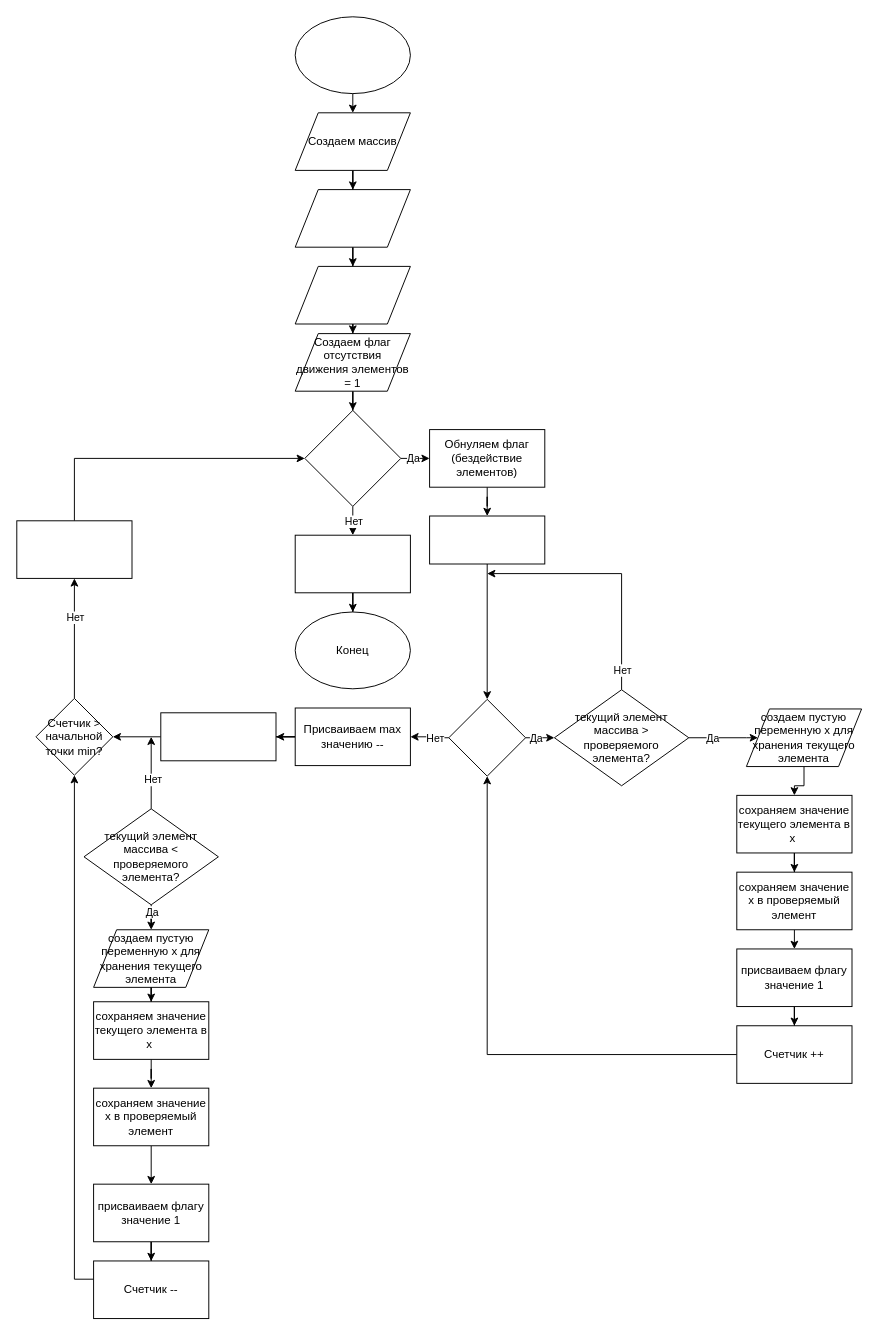
Some shapes in this 878 by 1335 pixel diagram are drawn without their labels. The shapes that lost their labels are listed below. From the top down, each one's centre as x and y in pixels, then its label:
At (352,55): "Начало".
At (352,218): "Создаем переменную min (начало массива)".
At (352,294): "Создаем переменную max (конец массива)".
At (352,457): "min < max && Flag >0 ?".
At (74,549): "Присваиваем min значению ++".
At (487,539): "Создаем счетчик = начальной точке min".
At (352,563): "Выводим отсортированный массив".
At (218,736): "Создаем счетчик = конечной точке max".
At (487,737): "Счетчик < конечной точки max?".
